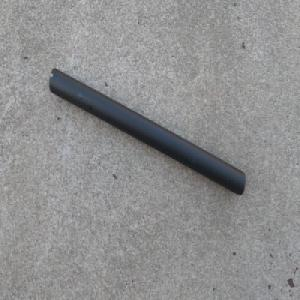LuggagePart: (47, 67, 246, 196)
